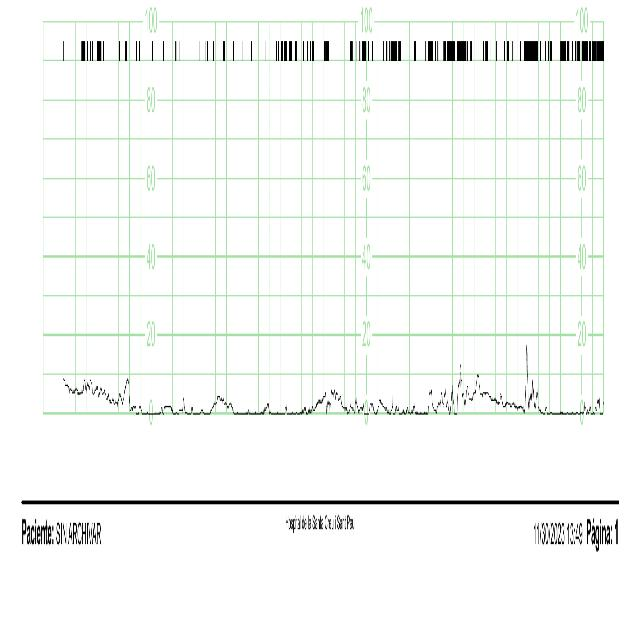contraction: (522, 336, 534, 419)
